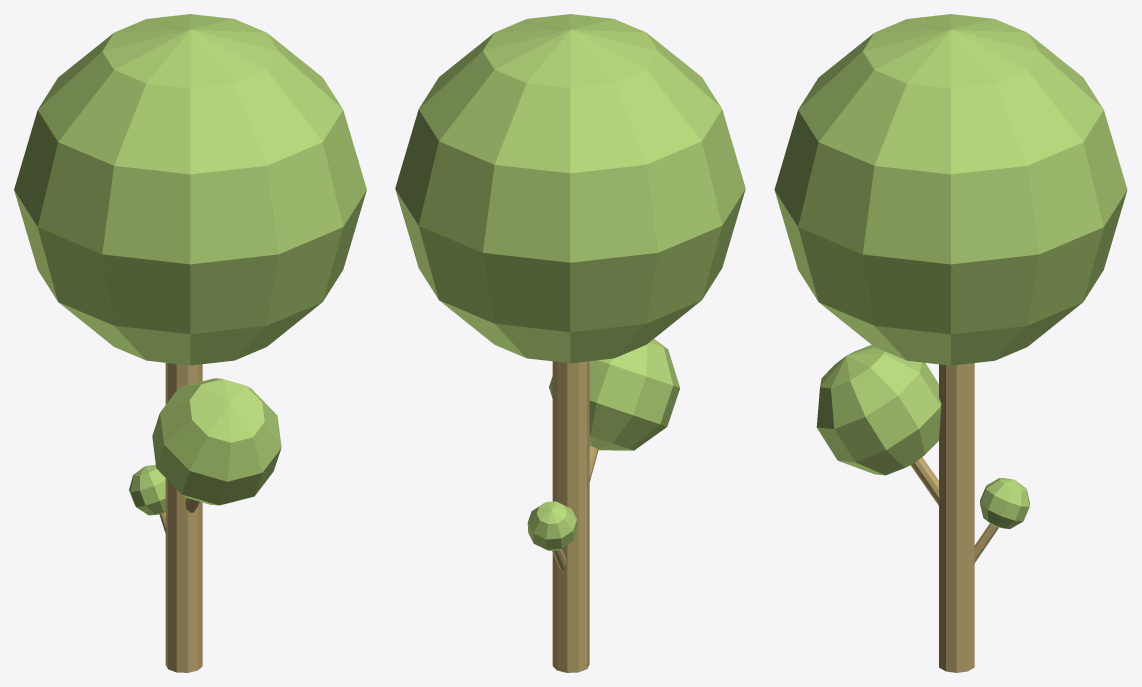
File: props11.fbx
3 views of the same model, side by side, from view 1: azimuth 30°, elevation 25°; view 2: azimuth 150°, elevation 25°; view 3: azimuth 270°, elevation 25° (orthographic).
Parts seen in each view (by area): view 1: Sphere_3; view 2: Sphere_3; view 3: Sphere_3.
Part boxes in pixels (x1,y1,x2,y2): Sphere_3: [14, 14, 366, 672]; Sphere_3: [395, 14, 745, 672]; Sphere_3: [774, 14, 1127, 672].
Size of the model in its own units: 194 by 385 by 194.
